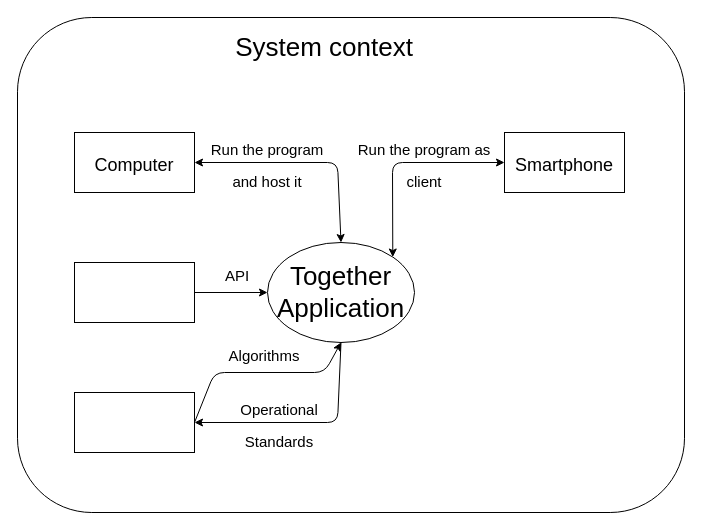
Some shapes in this 702 by 530 pixel diagram are drawn without their labels. The shapes that lost their labels are listed below. From the top down, each one's box as (x1, y1, x2, y2) in pixels, then its label:
(74, 262, 194, 322): Unity3D
(74, 392, 194, 452): Product Developer
